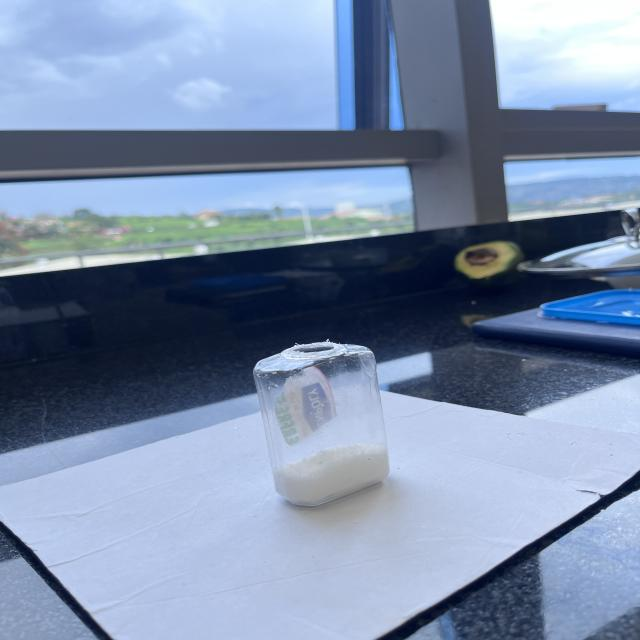salt: (271, 444, 387, 504)
